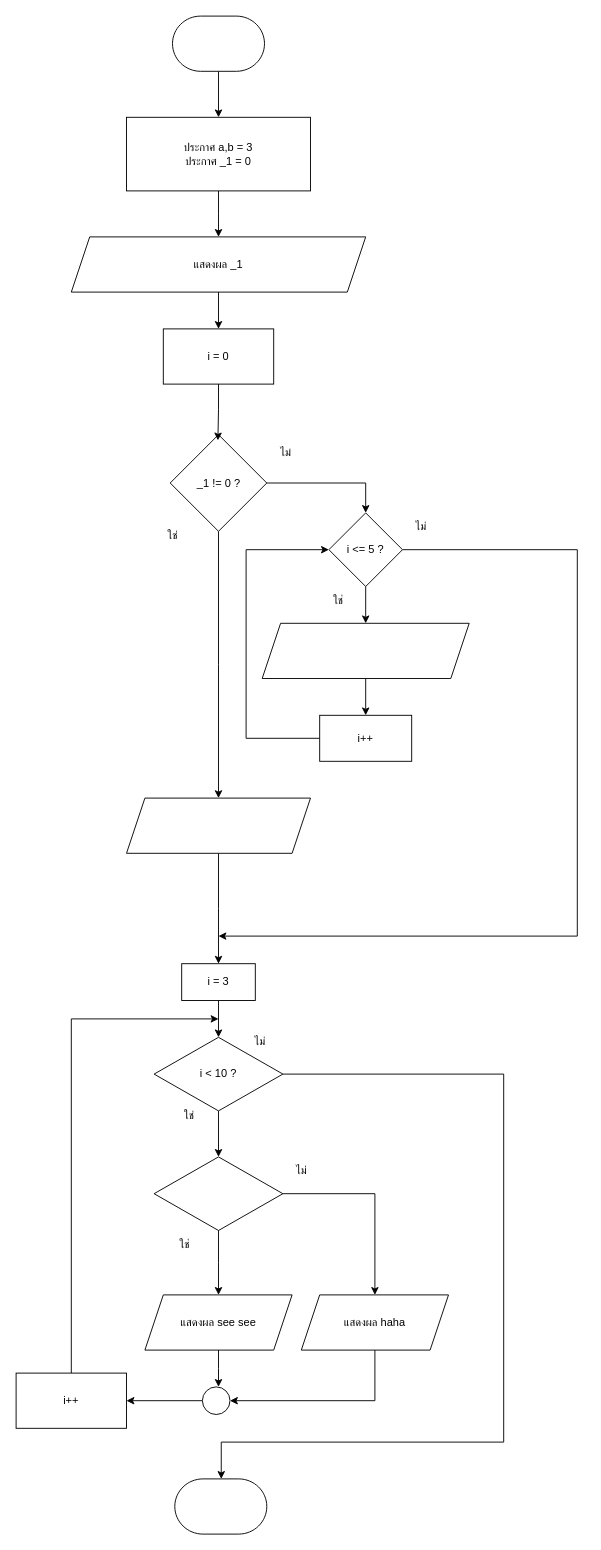
Some shapes in this 601 by 1550 pixel diagram are drawn without their labels. The shapes that lost their labels are listed below. From the top down, each one's centre as x and y in pixels, then its label:
At [218,43]: "Start".
At [365,650]: "แสดงผล not-okey".
At [218,825]: "แสดงผล ok".
At [218,1193]: "i % 2 == 1?".
At [220,1506]: "End".
